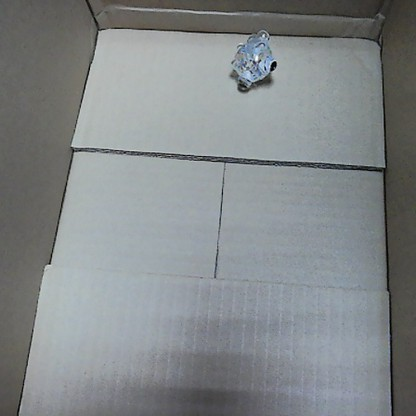whitefish: (229, 29, 279, 94)
